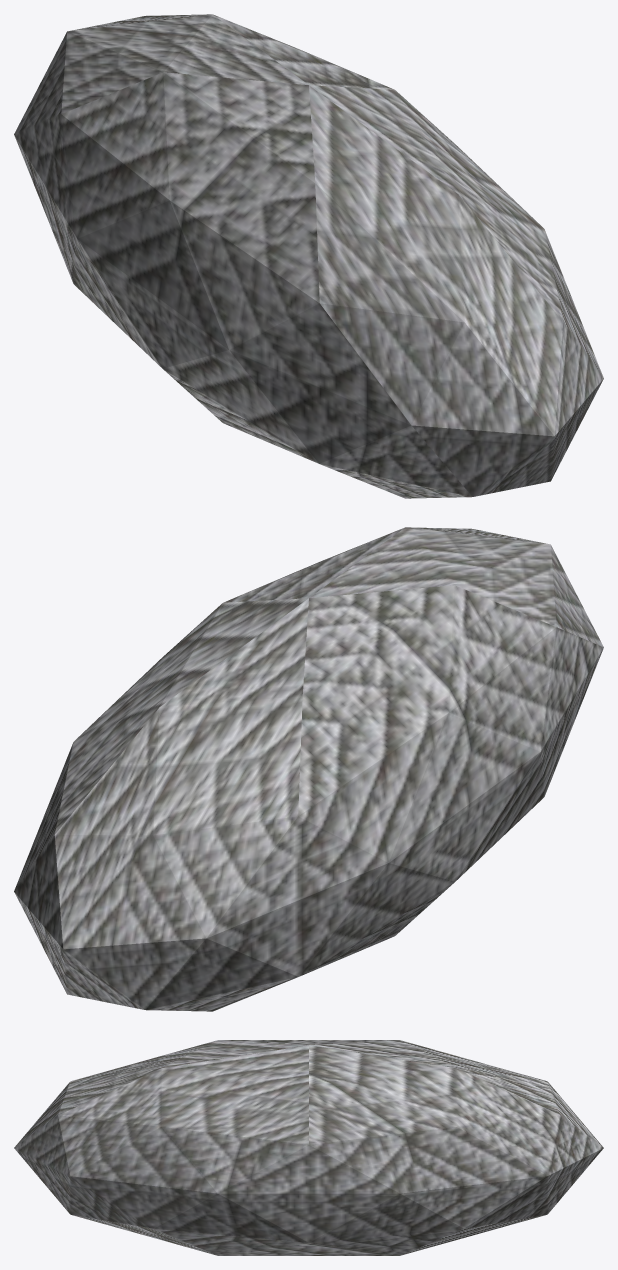
File: pildora.gltf
The picture shows the model from 3 angles, top to bottom: view 1: azimuth 30°, elevation 25°; view 2: azimuth 150°, elevation 25°; view 3: azimuth 270°, elevation 25°; orthographic projection. The views are drawn at different scales.
Parts seen in each view (by area): view 1: Pildora; view 2: Pildora; view 3: Pildora.
Boxes of the visible parts, left/top/right/bottom form: Pildora: left=14, top=14, right=603, bottom=498; Pildora: left=14, top=527, right=603, bottom=1011; Pildora: left=14, top=1040, right=603, bottom=1255.
Size of the model in its own units: 0.9511 by 1 by 2.6.
